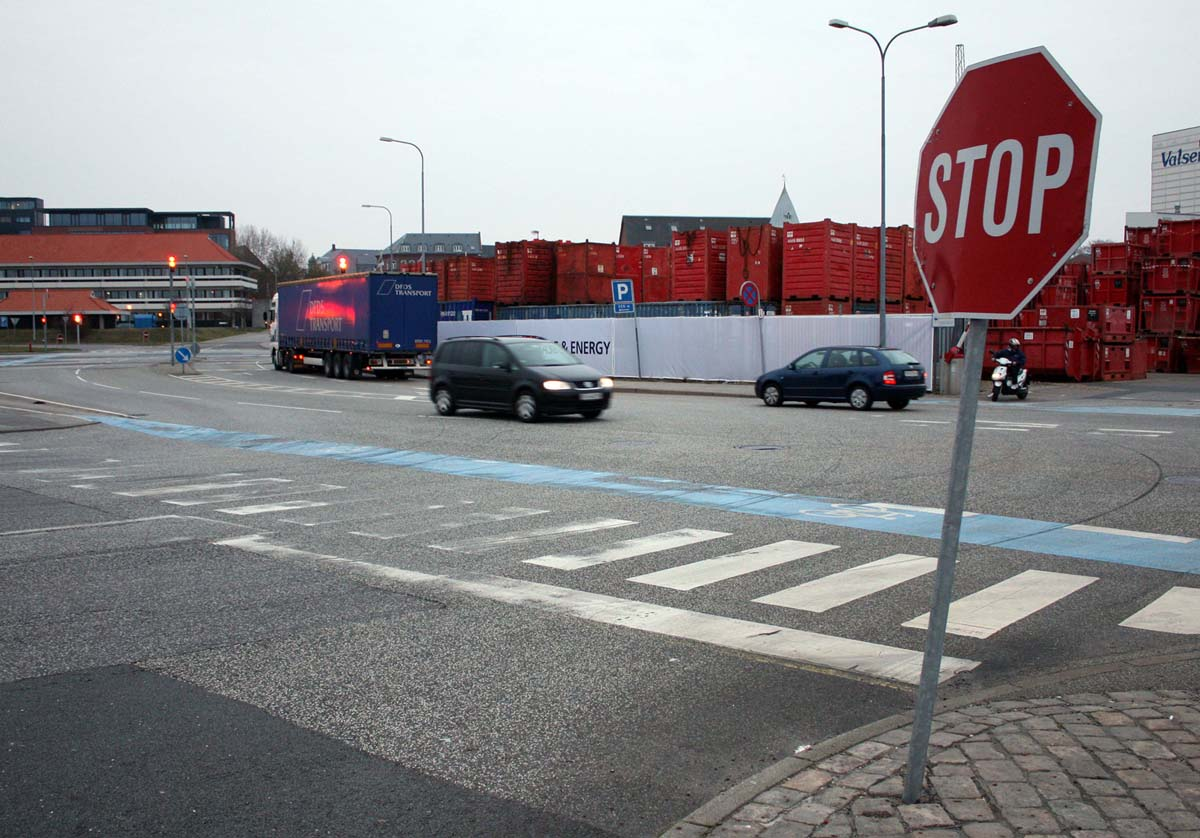stop: (913, 45, 1096, 320)
